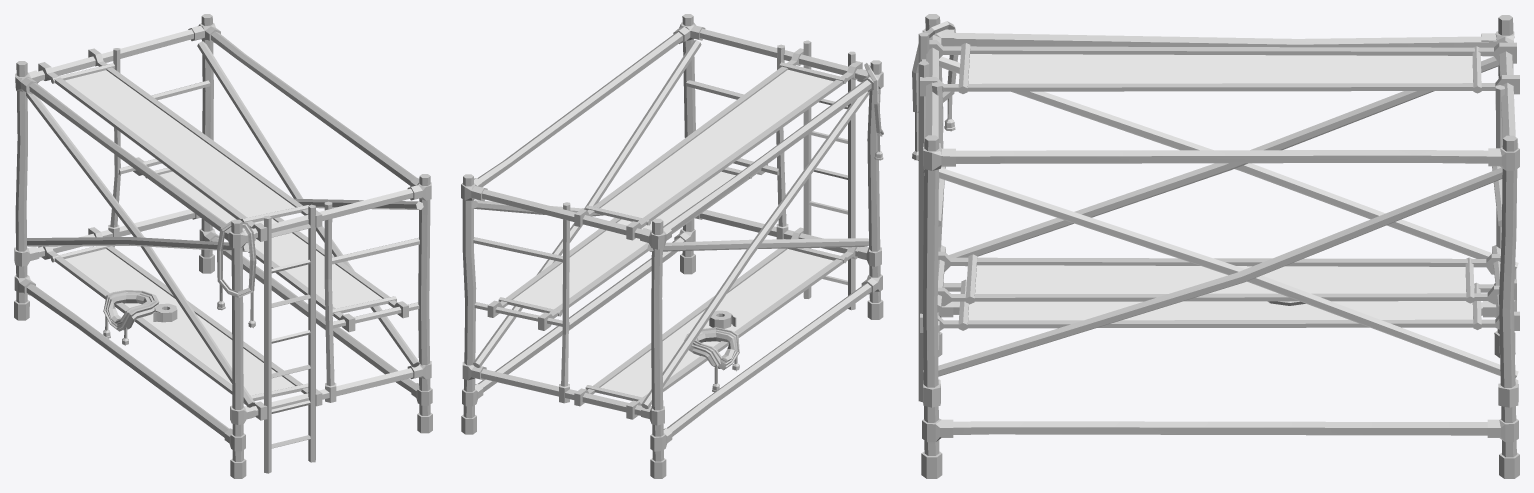
File: SM_Prop_Scaffold_Preset_01.glb
The picture shows the model from 3 angles, left to right: view 1: azimuth 30°, elevation 25°; view 2: azimuth 150°, elevation 25°; view 3: azimuth 270°, elevation 25°; orthographic projection. The views are drawn at different scales.
Visible parts, largest first — view 1: SM_Prop_Scaffold_Preset_01; view 2: SM_Prop_Scaffold_Preset_01; view 3: SM_Prop_Scaffold_Preset_01.
Part boxes in pixels (bbox=[...]): SM_Prop_Scaffold_Preset_01: bbox=[14, 14, 432, 478]; SM_Prop_Scaffold_Preset_01: bbox=[461, 14, 883, 478]; SM_Prop_Scaffold_Preset_01: bbox=[912, 14, 1519, 478].
Size of the model in its own units: 2.13 by 2.5 by 4.09.
Materials: 2 (1 with a texture image).
